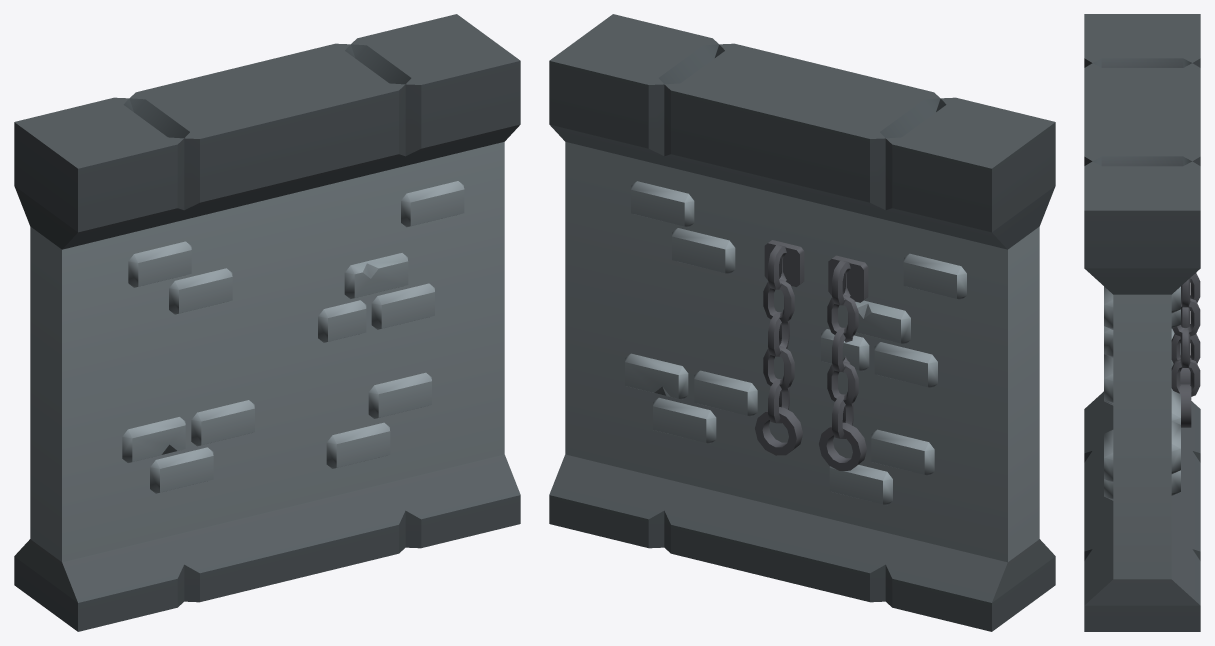
Rendered from wall_prison_C.glb.
3 views of the same model, side by side, from view 1: azimuth 30°, elevation 25°; view 2: azimuth 150°, elevation 25°; view 3: azimuth 270°, elevation 25° (orthographic). The views are drawn at different scales.
Parts seen in each view (by area): view 1: Item; view 2: Item; view 3: Item.
Boxes of the visible parts, x1=… form: Item: x1=14, y1=14, x2=520, y2=631; Item: x1=549, y1=14, x2=1055, y2=631; Item: x1=1084, y1=14, x2=1200, y2=631.
Size of the model in its own units: 4 by 4 by 1.
2 materials, 2 textured.
